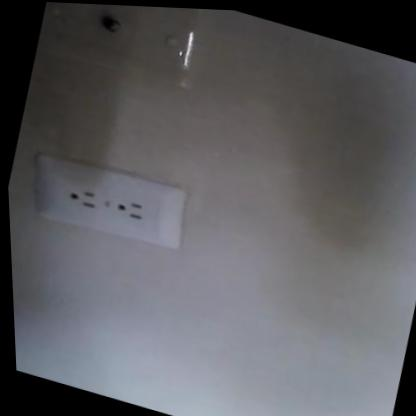OUTLET: (29, 148, 193, 259)
